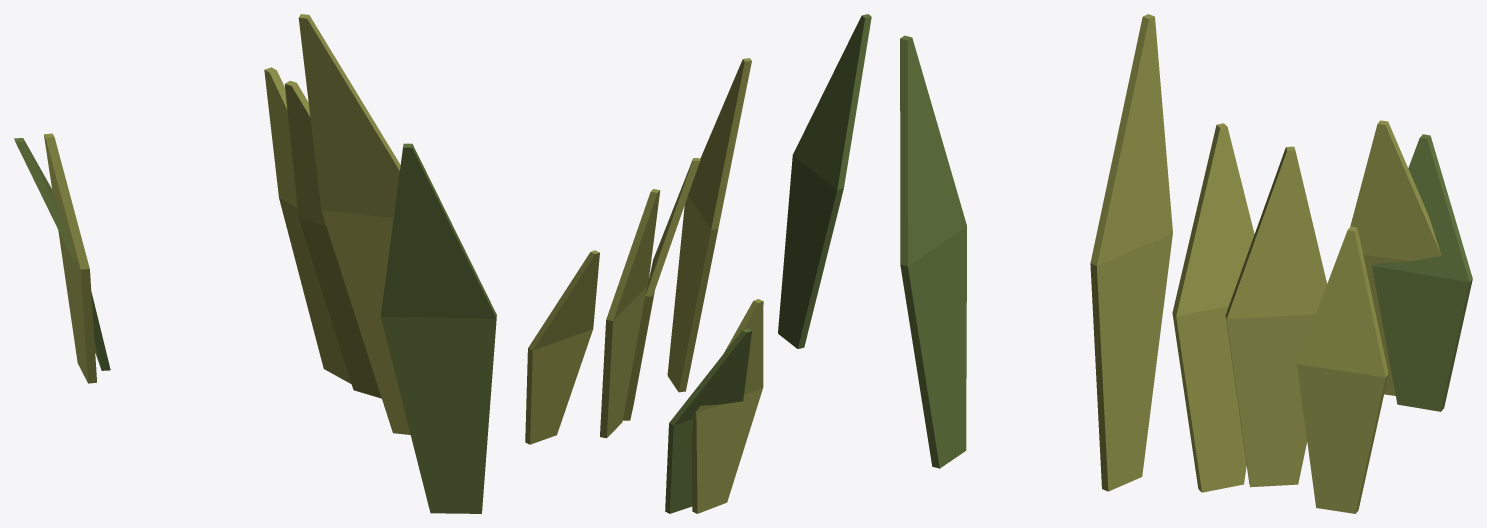
File: foliage_grass_b.glb
The picture shows the model from 3 angles, left to right: view 1: azimuth 30°, elevation 25°; view 2: azimuth 150°, elevation 25°; view 3: azimuth 270°, elevation 25°; orthographic projection. The views are drawn at different scales.
Parts seen in each view (by area): view 1: foliage_grass_b_cluster_material_01, foliage_grass_b_cluster_material_00; view 2: foliage_grass_b_cluster_material_01, foliage_grass_b_cluster_material_00; view 3: foliage_grass_b_cluster_material_01, foliage_grass_b_cluster_material_00.
Part boxes in pixels (x1,y1,x2,y2): foliage_grass_b_cluster_material_01: (44, 14, 410, 434); foliage_grass_b_cluster_material_00: (14, 138, 496, 513); foliage_grass_b_cluster_material_01: (525, 58, 763, 513); foliage_grass_b_cluster_material_00: (665, 14, 871, 513); foliage_grass_b_cluster_material_01: (1090, 14, 1441, 513); foliage_grass_b_cluster_material_00: (900, 35, 1472, 468).
Bounding box in the file's own units: 0.2827 × 0.3723 × 0.4615.
